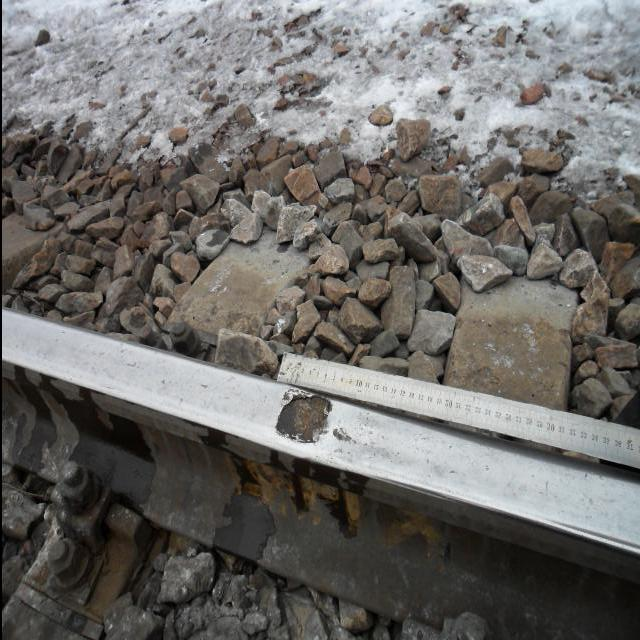broken_rail_medium: (329, 425, 353, 442), (541, 479, 548, 500), (196, 382, 206, 390), (356, 423, 364, 431), (364, 410, 368, 422), (261, 394, 265, 405), (483, 463, 487, 471), (448, 471, 456, 475), (445, 444, 450, 450), (582, 472, 586, 478)
head_checks_high: (272, 386, 332, 444)
